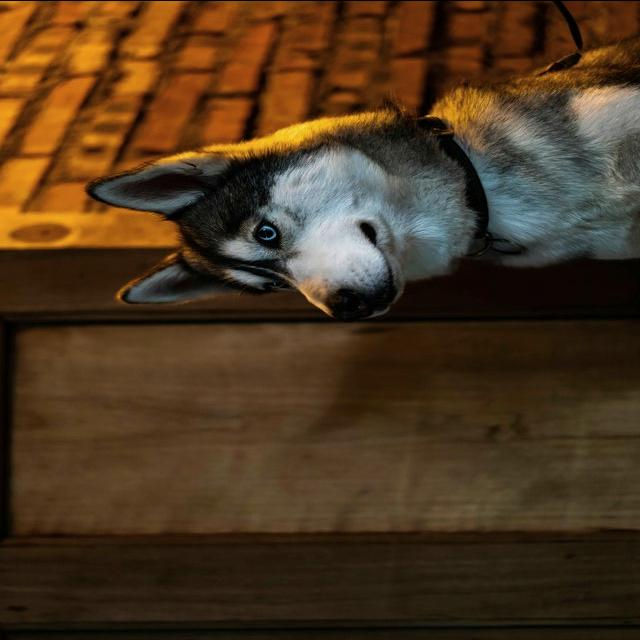husky: (83, 33, 639, 322)
